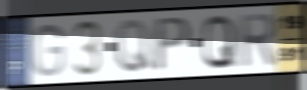3: (71, 18, 103, 79)
G: (30, 22, 66, 79)
P: (152, 15, 194, 75)
Q: (113, 18, 155, 75), (201, 13, 237, 72)
R: (237, 11, 278, 69)
